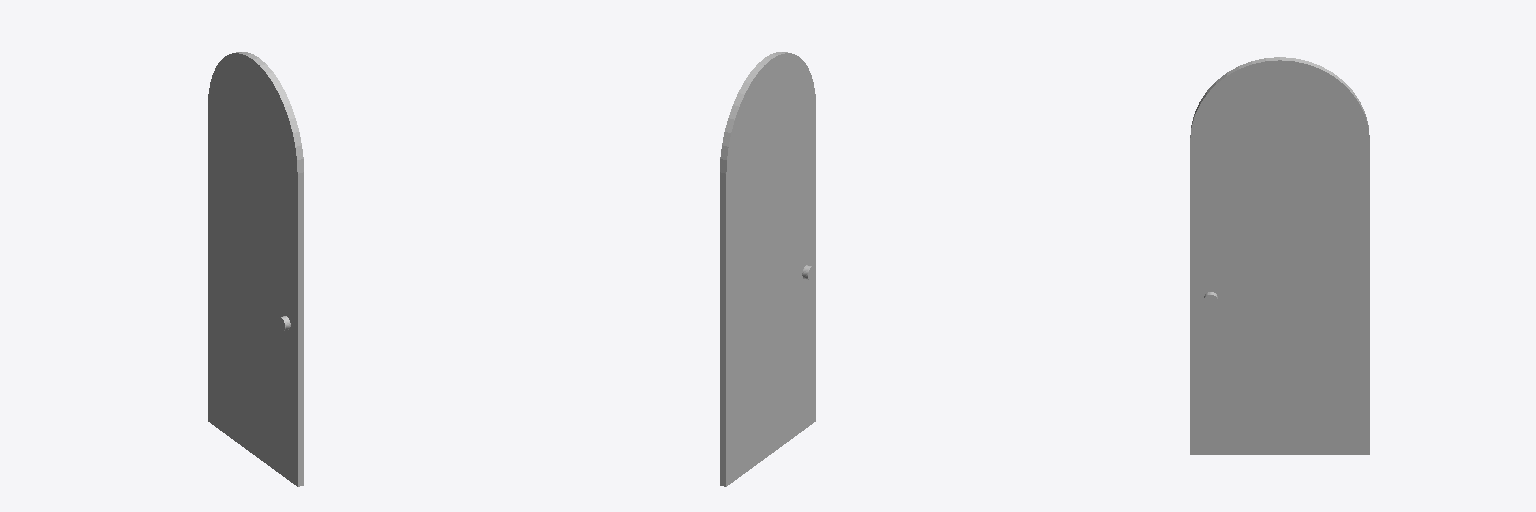
File: PUERTA_CUARTO_VACIO.obj
The picture shows the model from 3 angles: view 1: azimuth 30°, elevation 25°; view 2: azimuth 150°, elevation 25°; view 3: azimuth 270°, elevation 25°; orthographic projection.
Visible parts, largest first — view 1: Puerta03.001; view 2: Puerta03.001; view 3: Puerta03.001.
Boxes of the visible parts, x1,y1,x2,y2 form: Puerta03.001: [208, 52, 303, 486]; Puerta03.001: [720, 52, 815, 486]; Puerta03.001: [1190, 57, 1369, 454].
Bounding box in the file's own units: 0.1084 × 2.27 × 0.9366.